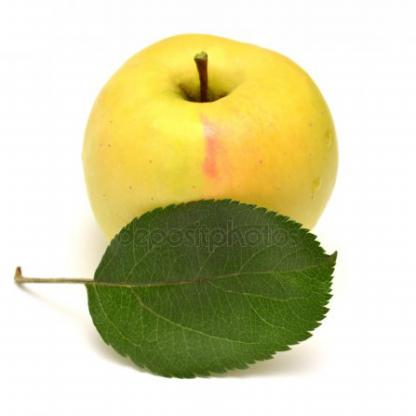Apple leaf: (81, 194, 355, 385)
